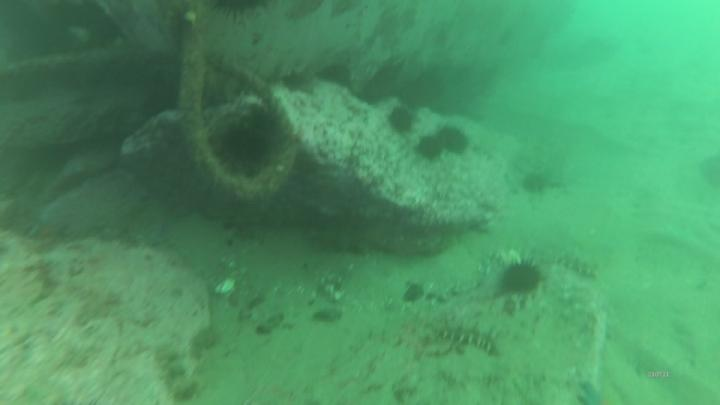echinus: (492, 252, 552, 298), (205, 1, 274, 27), (435, 124, 472, 156), (387, 103, 420, 138), (416, 132, 448, 164)
holothurian: (435, 317, 505, 361), (550, 253, 608, 281)
